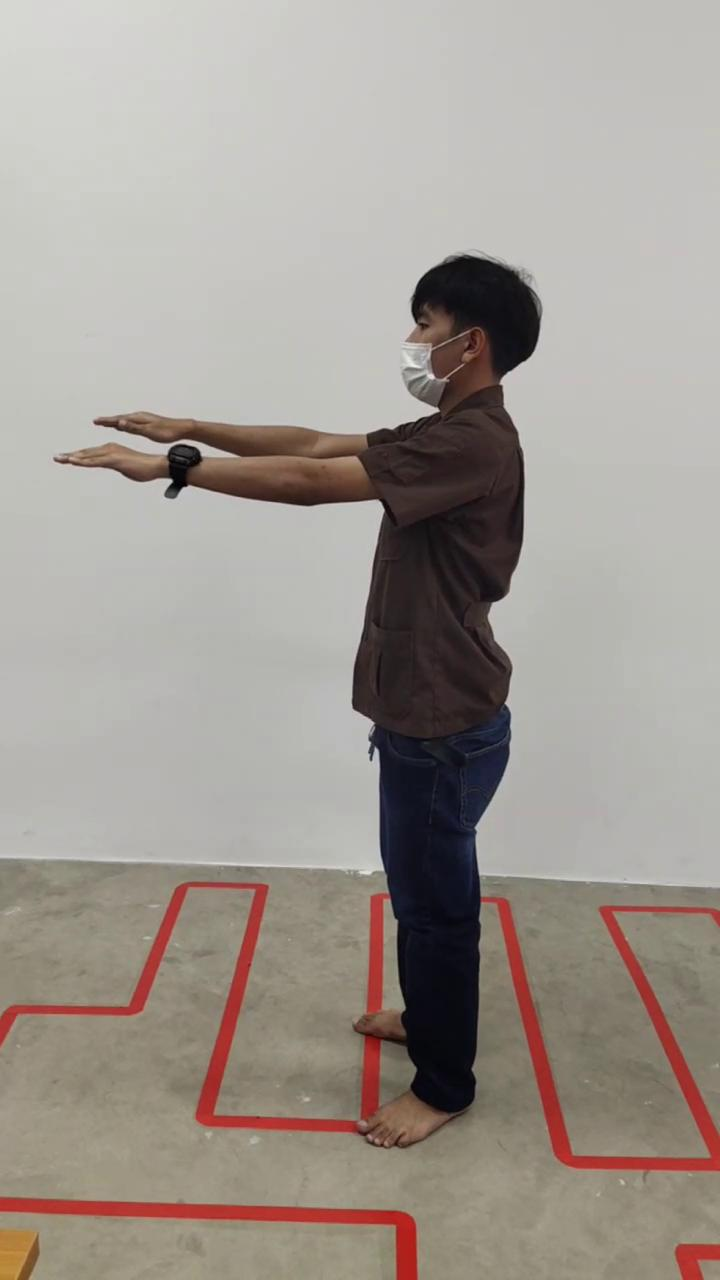squat up: (66, 253, 542, 1151), (67, 254, 542, 1151)
